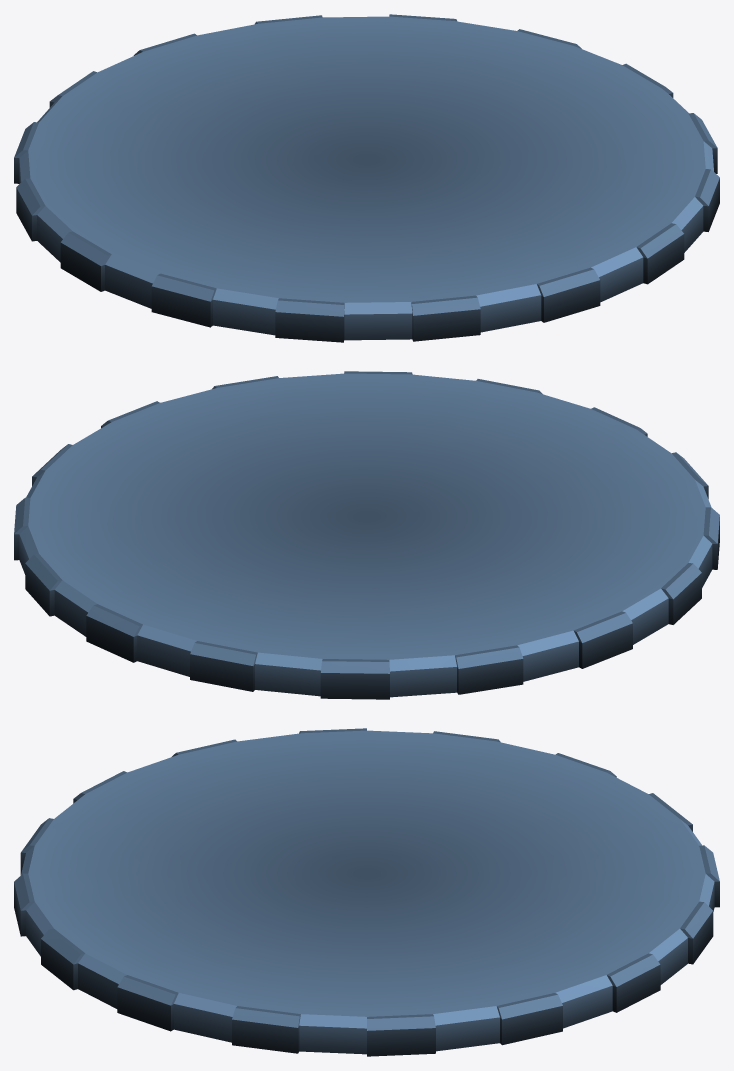
The model's file is Ground.fbx.
The picture shows the model from 3 angles, top to bottom: view 1: azimuth 30°, elevation 25°; view 2: azimuth 150°, elevation 25°; view 3: azimuth 270°, elevation 25°; orthographic projection.
Visible parts, largest first — view 1: Cylinder; view 2: Cylinder; view 3: Cylinder.
Part boxes in pixels (x1,y1,x2,y2): Cylinder: (14,14,719,342); Cylinder: (14,371,719,699); Cylinder: (14,728,719,1056).
Bounding box in the file's own units: 270 × 14.22 × 270.
